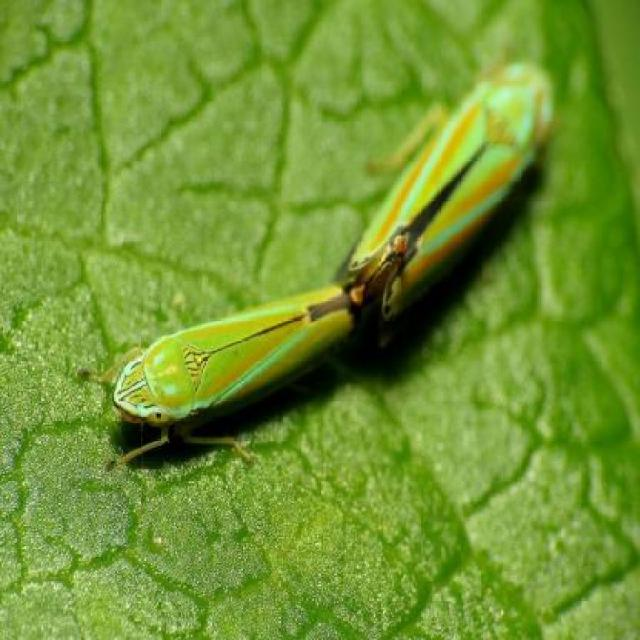green-leafhopper: (75, 60, 554, 471)
